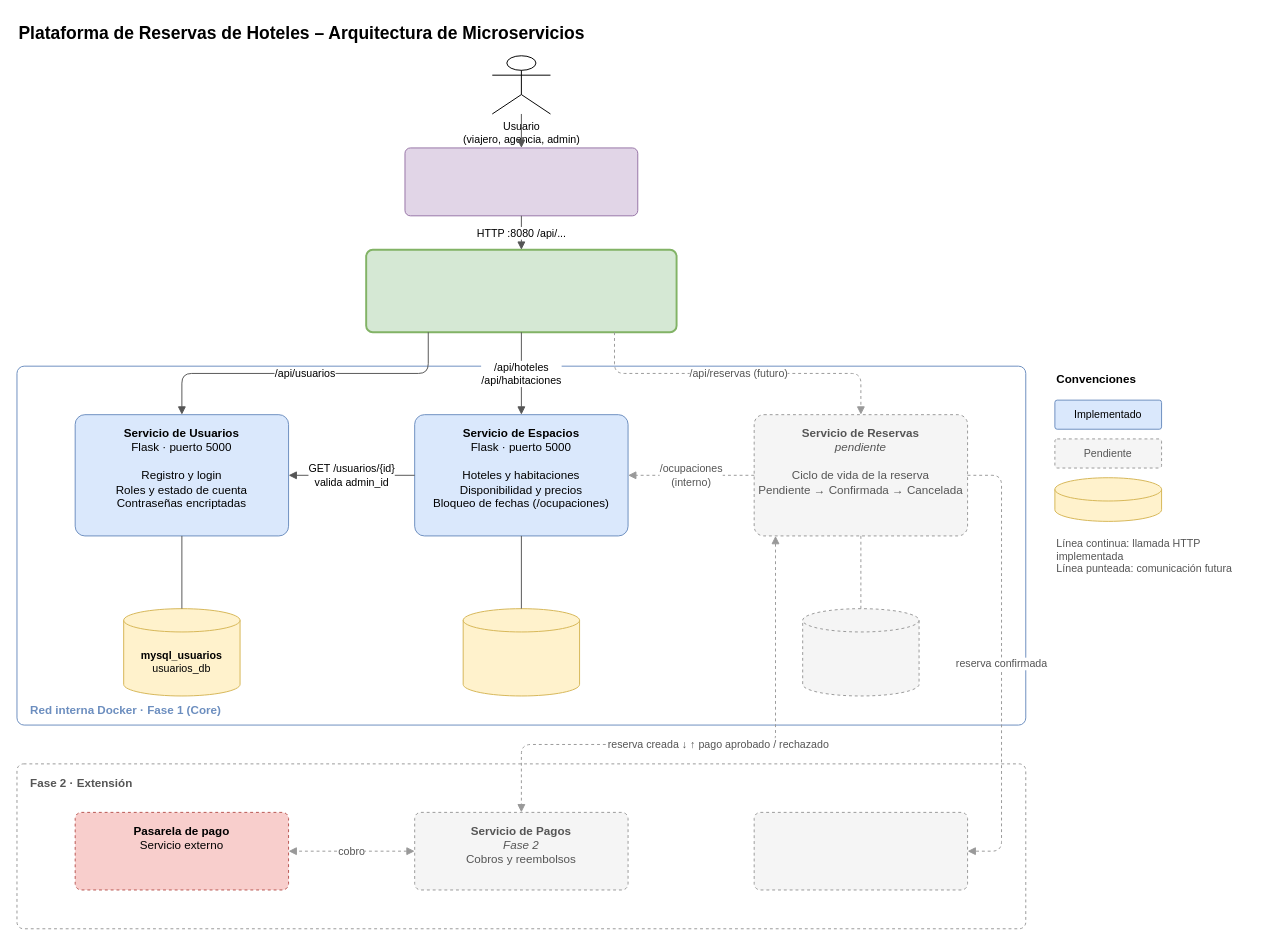
Image size: 1285x946. Some labels were removed from this diagram. The shapes that lost their labels are listed below. From the top down, each one's centre as x and y in pixels, then its label:
At point (521, 181): "Vista Principal (HOME) HTML + CSS + JS nginx · puerto 3000".
At point (521, 290): "API Gateway – NGINX Puerto 8080 · única entrada Enrutara Api".
At point (1108, 499): "Base de datos".
At point (521, 652): "mysql_espacios espacios_db".
At point (860, 652): "mysql_reservas reservas_db".
At point (860, 850): "Servicio de Notificaciones Fase 2 Correo y SMS".
